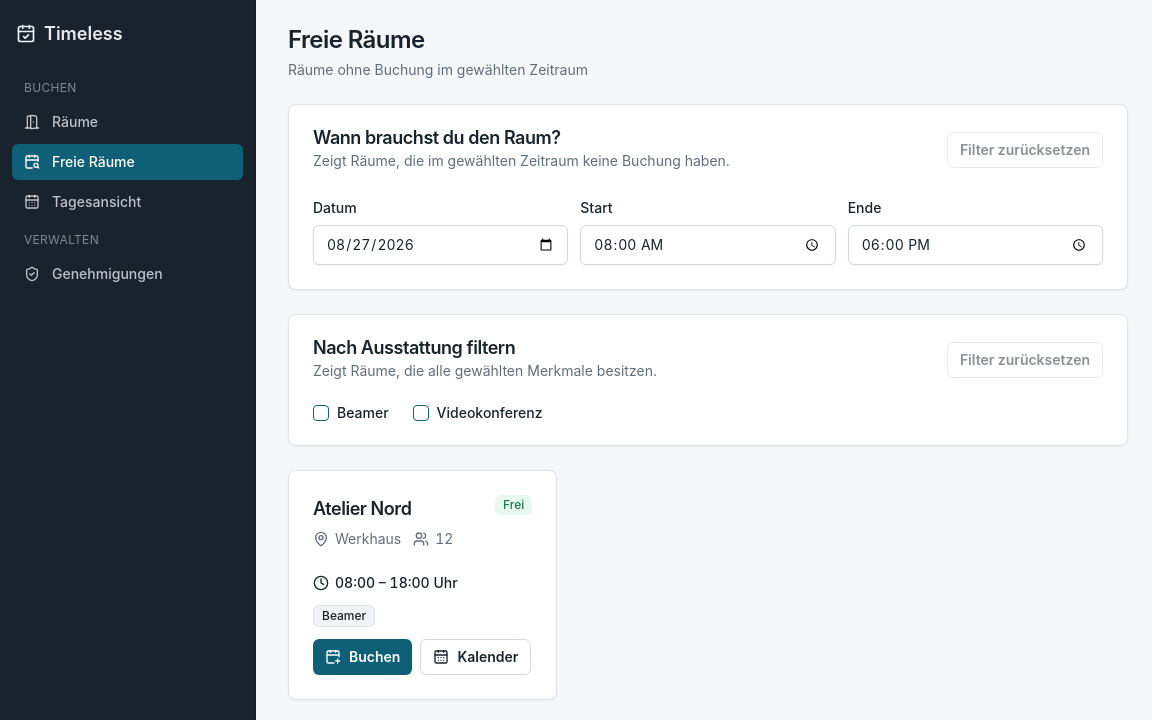
Freie-Räume-Suche – Buchungseinstieg aus dem Treffer › zeigt die über die Suche angelegte Buchung anschließend im Raumkalender des Raums
Expected: the element with test id "search-grid" is shown, [288, 470, 557, 700]
Click the button "Buchen": click(363, 657) [313, 639, 412, 675]
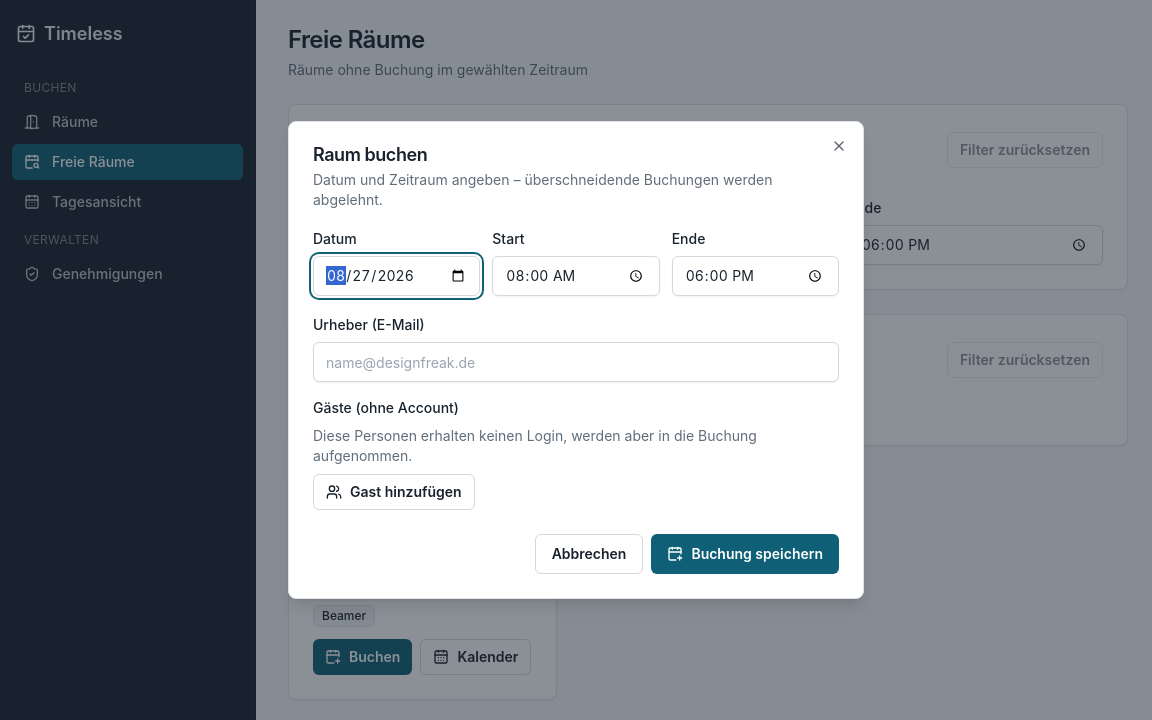
Result: the dialog with test id "booking-dialog" is shown at [288, 121, 864, 599]
Result: the form with test id "booking-form" is shown at [313, 226, 839, 574]
In the field with test id "booking-createdby": (576, 362) [313, 342, 839, 382], type "mitarbeiter@example.com"
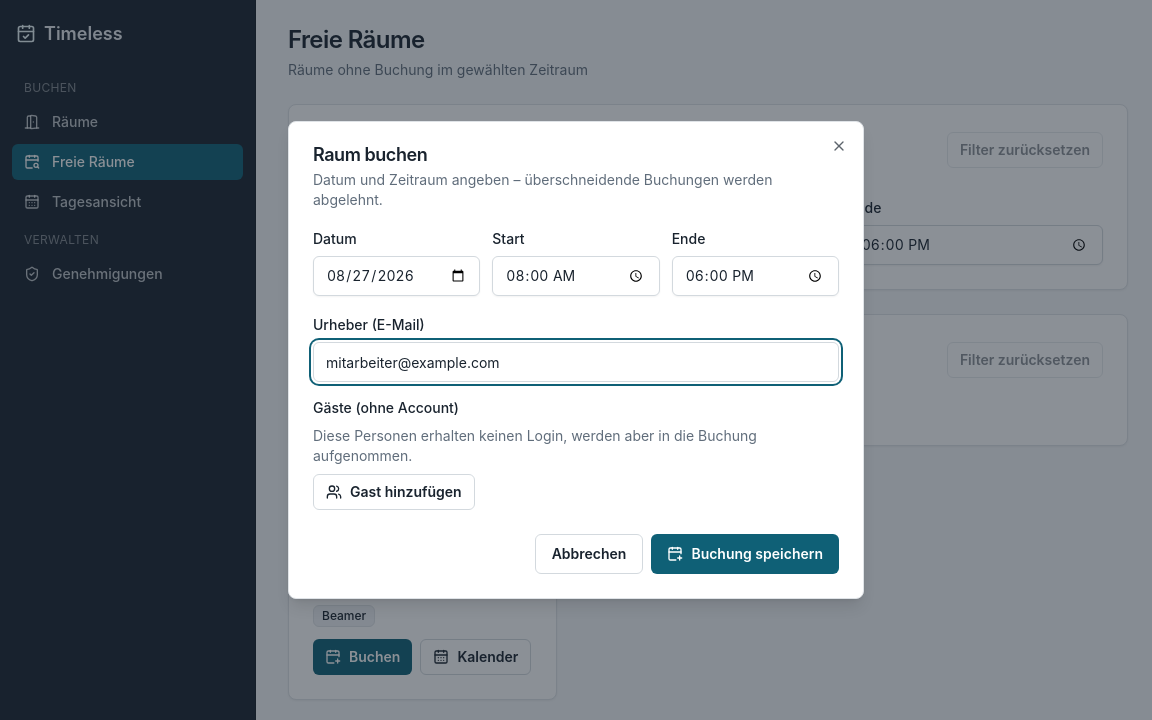
Click the button with test id "booking-submit": click(745, 554) [651, 534, 839, 574]
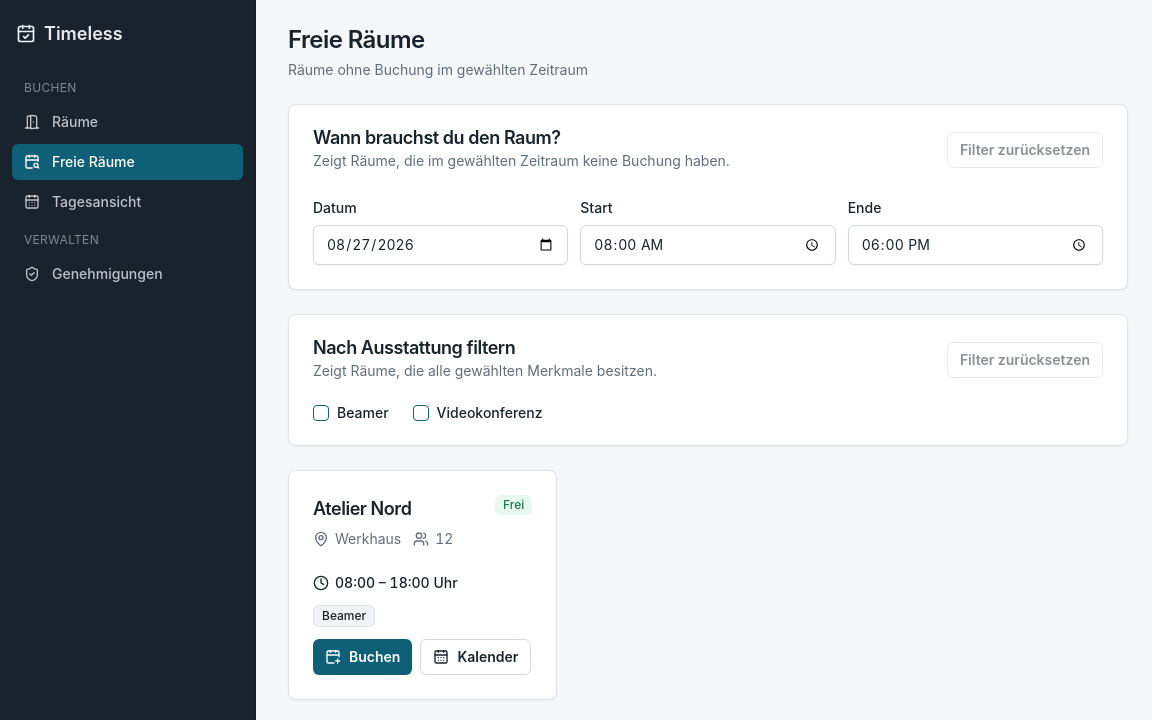
Result: the dialog with test id "booking-dialog" is gone
Click the link "Kalender": click(476, 657) [420, 639, 531, 675]
(page scrolled)
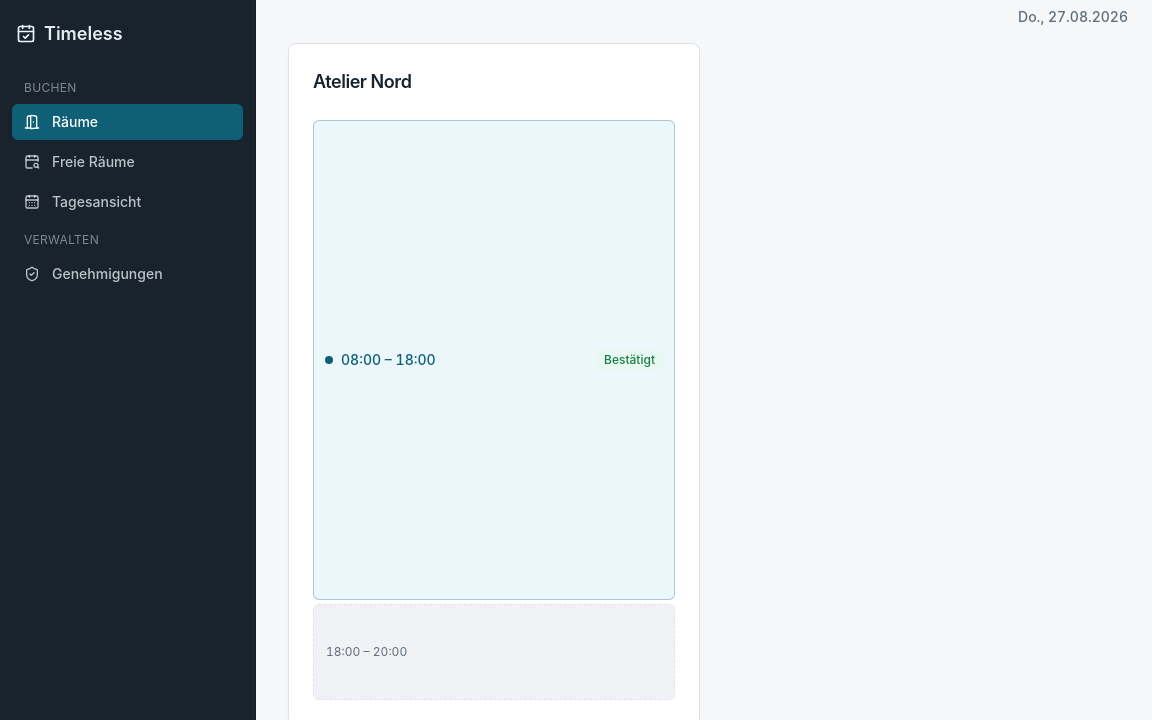
Result: the element with test id "timegrid-slot-booked" shows "08:00 – 18:00" at [313, 120, 675, 600]
Result: the element with test id "timegrid-slot-booked" shows "Bestätigt" at [604, 352, 655, 367]
